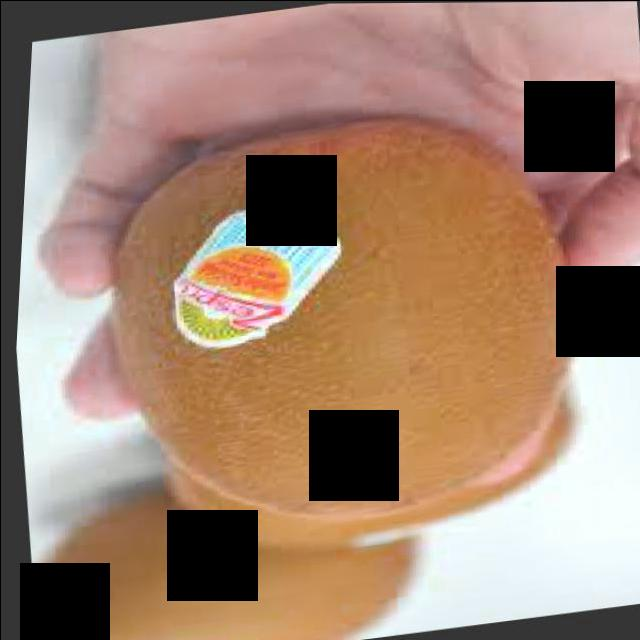kiwi: (76, 91, 601, 548), (152, 370, 594, 570), (23, 450, 435, 640)
